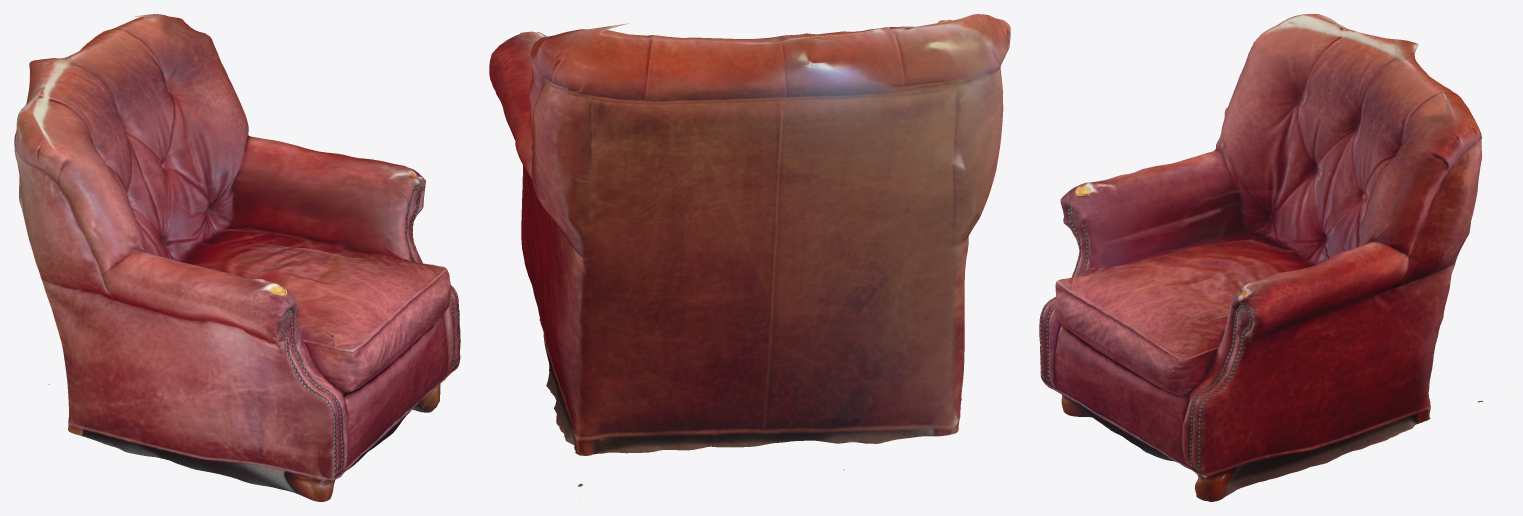
Rendered from chair2.glb.
3 views of the same model, side by side, from view 1: azimuth 30°, elevation 25°; view 2: azimuth 150°, elevation 25°; view 3: azimuth 270°, elevation 25° (orthographic). The views are drawn at different scales.
Visible parts, largest first — view 1: Object_3, Object_4; view 2: Object_3; view 3: Object_3, Object_4.
Boxes of the visible parts, x1=… form: Object_3: x1=14, y1=14, x2=460, y2=501; Object_4: x1=235, y1=205, x2=365, y2=479; Object_3: x1=489, y1=14, x2=1010, y2=501; Object_3: x1=1039, y1=14, x2=1482, y2=501; Object_4: x1=1055, y1=23, x2=1293, y2=476.
Bounding box in the file's own units: 24.45 × 20.62 × 26.78.
2 materials, 2 textured.
